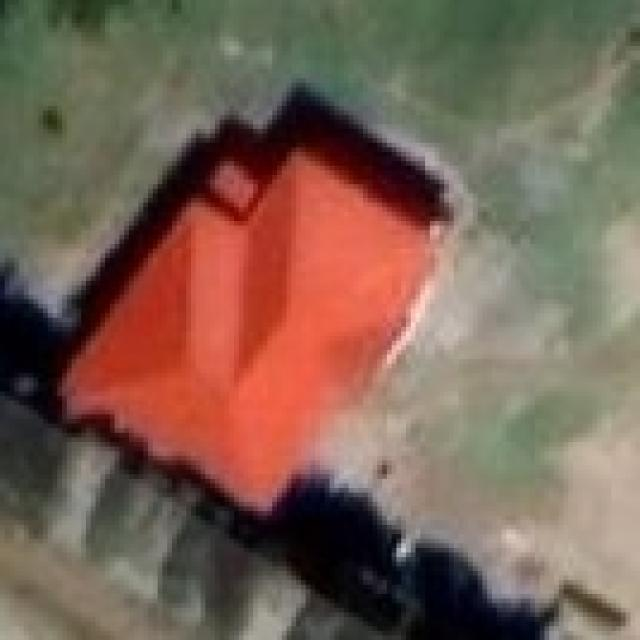Batiment: (60, 87, 451, 512)
